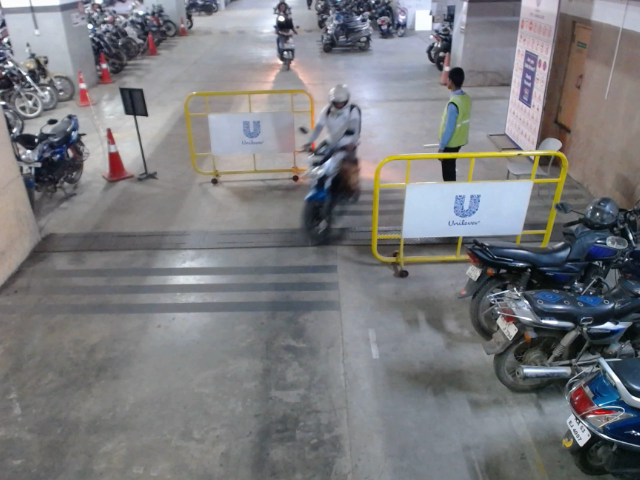with_helmet: (328, 85, 351, 110)
